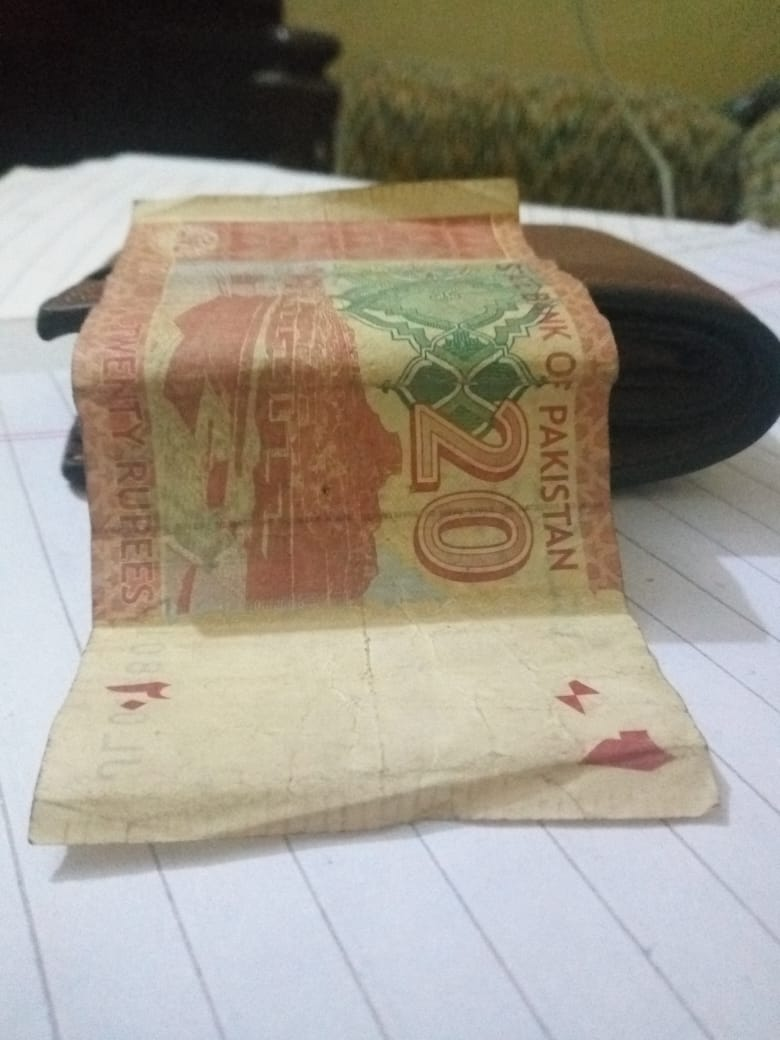20 rupee: (71, 144, 729, 881)
